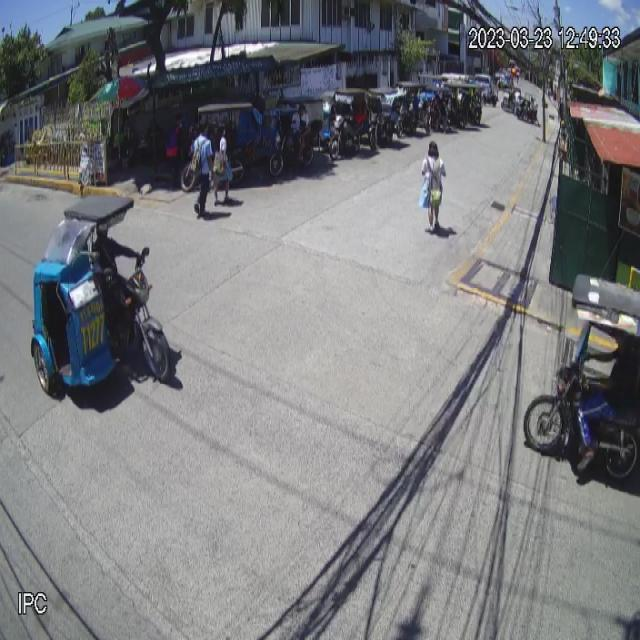Tricycle: (30, 195, 173, 398), (521, 268, 640, 484)
